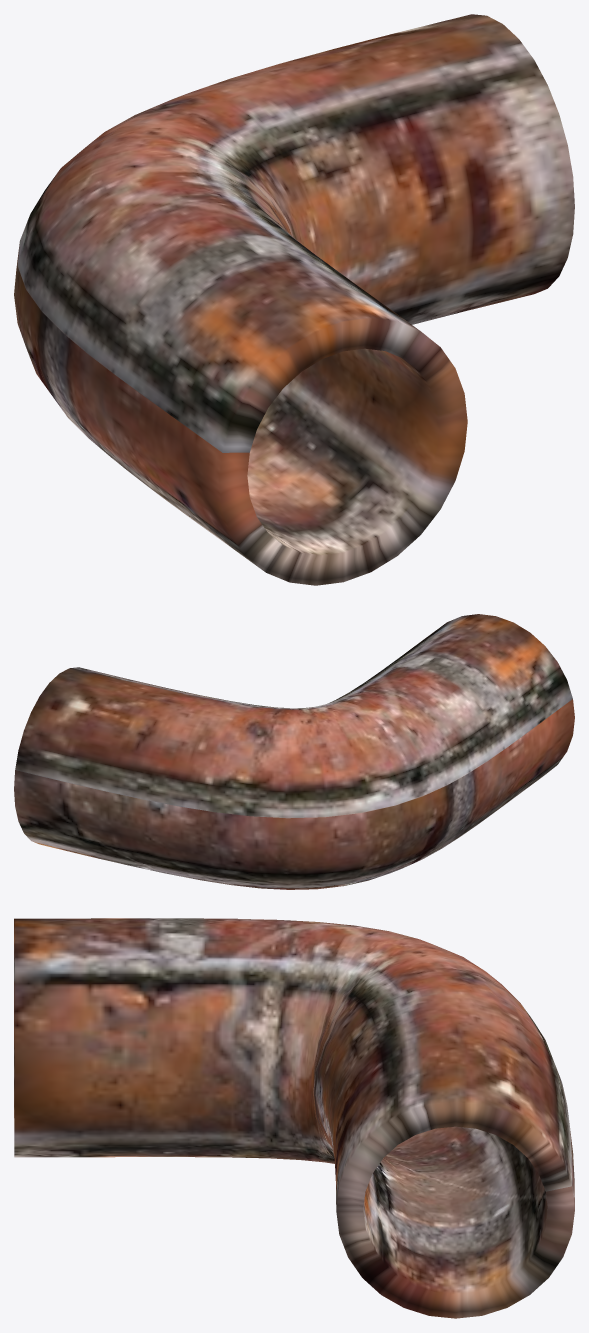
Rendered from Short_Curve_Sewer_03.fbx.
The picture shows the model from 3 angles, top to bottom: view 1: azimuth 30°, elevation 25°; view 2: azimuth 150°, elevation 25°; view 3: azimuth 270°, elevation 25°; orthographic projection. The views are drawn at different scales.
Parts seen in each view (by area): view 1: Short_Curve; view 2: Short_Curve; view 3: Short_Curve.
Part boxes in pixels (x1=…): Short_Curve: x1=14, y1=14, x2=574, y2=585; Short_Curve: x1=14, y1=614, x2=574, y2=889; Short_Curve: x1=14, y1=918, x2=574, y2=1318.
Size of what is drawn, in the model's own units: 2571 by 1162 by 2730.
